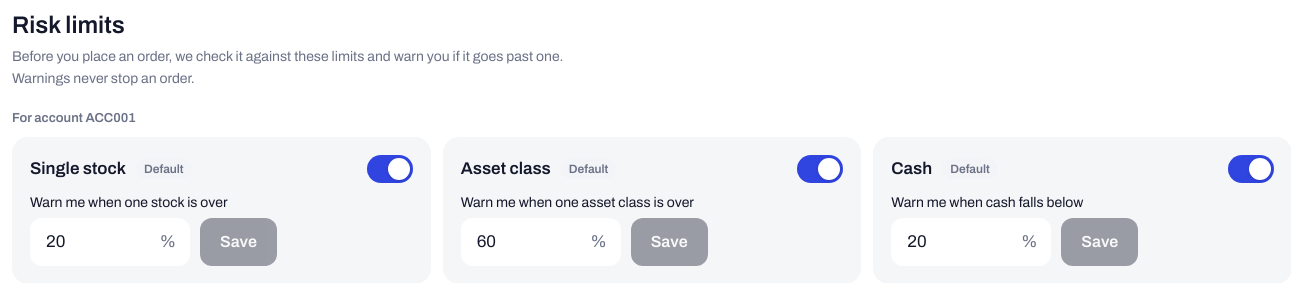
Test case: RiskLimitsComponent › turns a rule off and on with the switch
What coordinates should you click on to do the following:
click the 2nd switch with class "switch"
I would click on:
 (820, 169)
Its box is 797,155 -> 843,183.
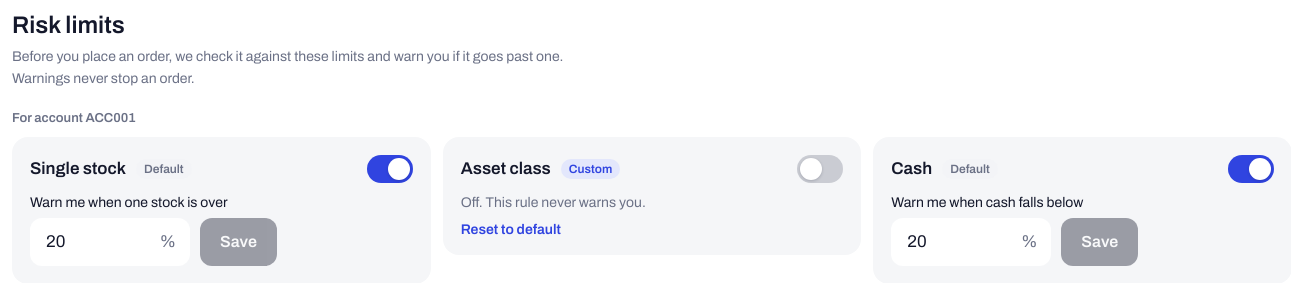
Check: the list item that starts with "Asset class" shows "This rule never warns you", box 461,195 -> 646,210
